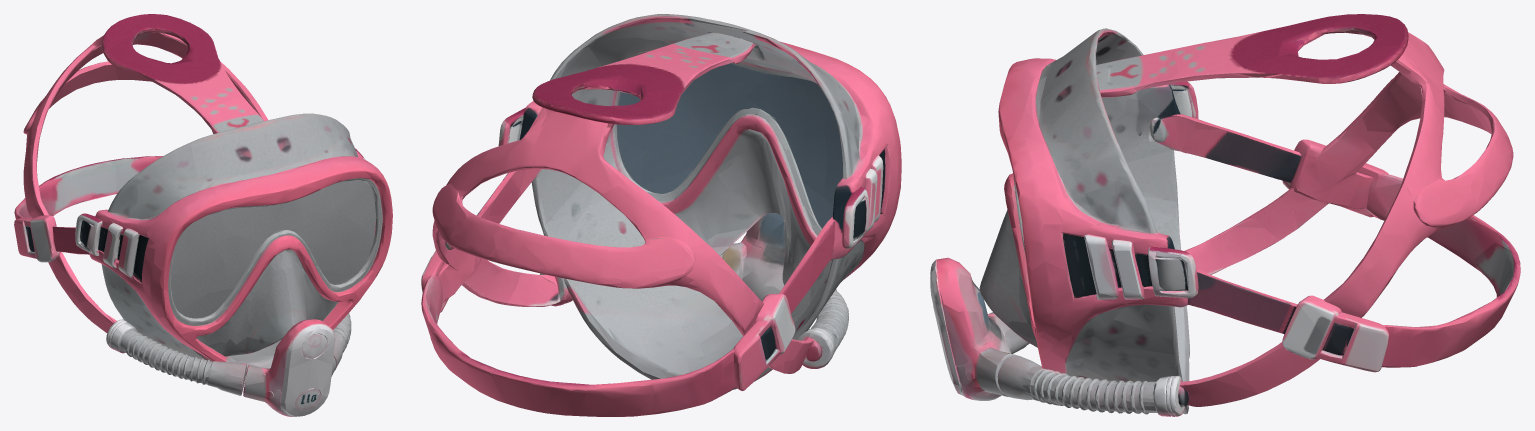
The model's file is maschera_sub.glb.
3 renders of one model, left to right at view 1: azimuth 30°, elevation 25°; view 2: azimuth 150°, elevation 25°; view 3: azimuth 270°, elevation 25°, orthographic. The views are drawn at different scales.
Bounding box in the file's own units: 1.35 × 1.31 × 1.9.
Materials: 1 (1 with a texture image).
